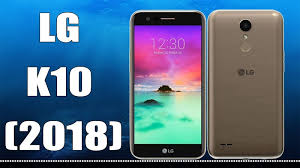lg: (127, 8, 209, 161), (206, 8, 288, 161)
